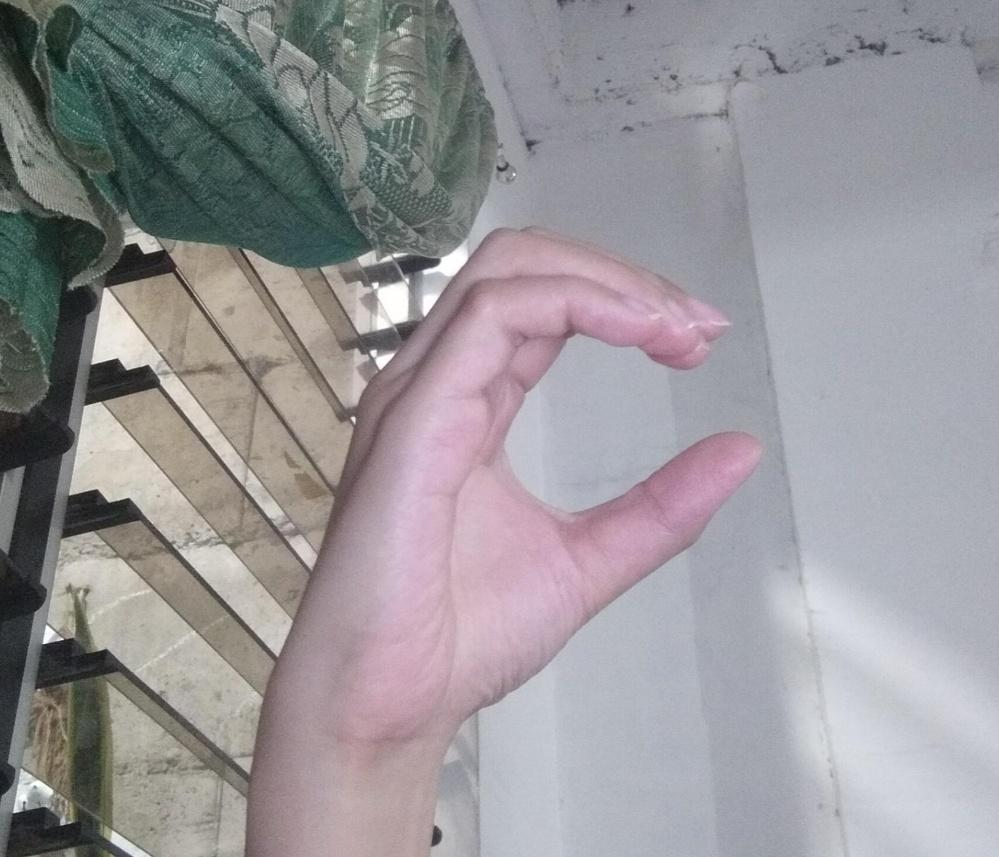c: (268, 222, 767, 729)
